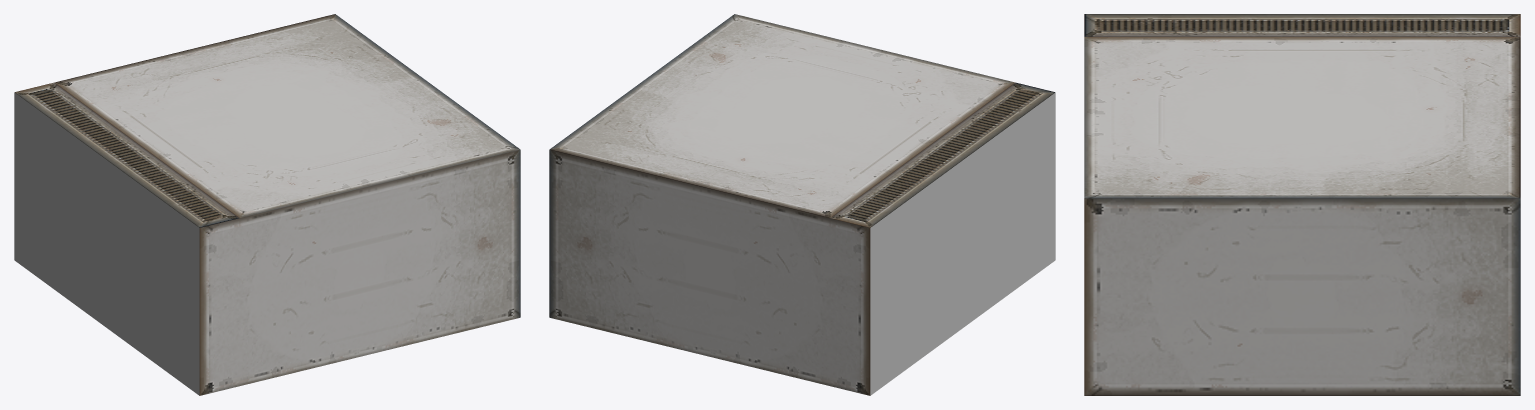
The model's file is scifi_floor_plateau_2.FBX.
3 renders of one model, left to right at view 1: azimuth 30°, elevation 25°; view 2: azimuth 150°, elevation 25°; view 3: azimuth 270°, elevation 25°, orthographic. The views are drawn at different scales.
Visible parts, largest first — view 1: Plane359; view 2: Plane359; view 3: Plane359.
Boxes of the visible parts, x1,y1,x2,y2 form: Plane359: (14, 14, 520, 395); Plane359: (549, 14, 1055, 395); Plane359: (1084, 14, 1520, 395).
Bounding box in the file's own units: 254 × 127 × 254.
